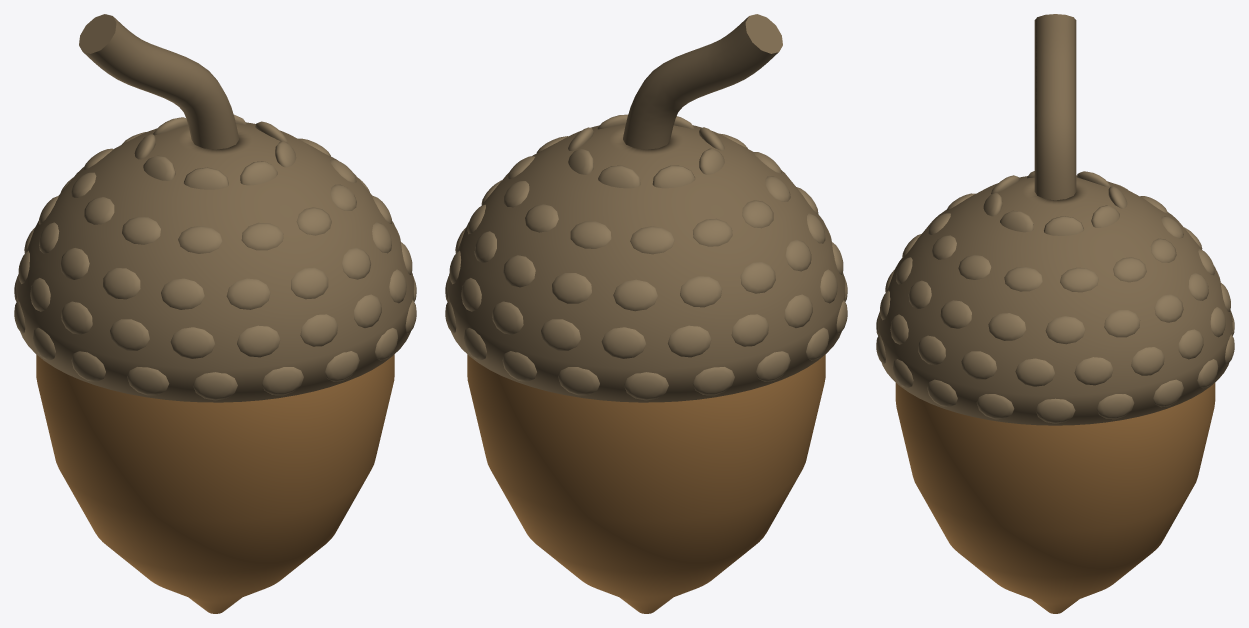
Rendered from A-NEW-20261027-ACORN-001_LOD0_R1.glb.
3 renders of one model, left to right at view 1: azimuth 30°, elevation 25°; view 2: azimuth 150°, elevation 25°; view 3: azimuth 270°, elevation 25°, orthographic. The views are drawn at different scales.
Visible parts, largest first — view 1: attached thick woody cup, smooth whole nut, short attached woody stalk, embedded woody cup scale 029, embedded woody cup scale 046, embedded woody cup scale 030, embedded woody cup scale 045, embedded woody cup scale 028, embedded woody cup scale 012, embedded woody cup scale 059, embedded woody cup scale 031, embedded woody cup scale 044 (+17 smaller); view 2: attached thick woody cup, smooth whole nut, short attached woody stalk, embedded woody cup scale 023, embedded woody cup scale 040, embedded woody cup scale 024, embedded woody cup scale 041, embedded woody cup scale 022, embedded woody cup scale 039, embedded woody cup scale 006, embedded woody cup scale 055, embedded woody cup scale 025 (+17 smaller); view 3: attached thick woody cup, smooth whole nut, short attached woody stalk, embedded woody cup scale 035, embedded woody cup scale 051, embedded woody cup scale 018, embedded woody cup scale 050, embedded woody cup scale 034, embedded woody cup scale 036, embedded woody cup scale 000, embedded woody cup scale 064, embedded woody cup scale 063 (+16 smaller).
Boxes of the visible parts, box(x1,y1,x2,y2) form: attached thick woody cup: box(16, 122, 414, 402); smooth whole nut: box(36, 354, 394, 613); short attached woody stalk: box(79, 14, 238, 149); embedded woody cup scale 029: box(170, 327, 215, 358); embedded woody cup scale 046: box(226, 278, 270, 309); embedded woody cup scale 030: box(237, 325, 280, 357); embedded woody cup scale 045: box(161, 278, 204, 309); embedded woody cup scale 028: box(110, 319, 149, 350); embedded woody cup scale 012: box(193, 372, 237, 400); embedded woody cup scale 059: box(178, 226, 222, 253); embedded woody cup scale 031: box(300, 314, 337, 346); embedded woody cup scale 044: box(103, 268, 140, 299); attached thick woody cup: box(447, 124, 845, 402); smooth whole nut: box(467, 354, 825, 613); short attached woody stalk: box(623, 14, 782, 149); embedded woody cup scale 023: box(601, 327, 646, 358); embedded woody cup scale 040: box(613, 279, 657, 311); embedded woody cup scale 024: box(668, 325, 711, 357); embedded woody cup scale 041: box(680, 276, 722, 307); embedded woody cup scale 022: box(541, 319, 580, 350); embedded woody cup scale 039: box(552, 273, 591, 303); embedded woody cup scale 006: box(624, 372, 668, 400); embedded woody cup scale 055: box(630, 226, 674, 254); embedded woody cup scale 025: box(731, 314, 768, 346); attached thick woody cup: box(878, 175, 1232, 425); smooth whole nut: box(895, 383, 1215, 613); short attached woody stalk: box(1034, 14, 1076, 200); embedded woody cup scale 035: box(1015, 358, 1054, 386); embedded woody cup scale 051: box(1045, 316, 1085, 344); embedded woody cup scale 018: box(1074, 357, 1113, 385); embedded woody cup scale 050: box(988, 313, 1026, 340); embedded woody cup scale 034: box(961, 351, 996, 379); embedded woody cup scale 036: box(1104, 310, 1140, 337); embedded woody cup scale 000: box(1035, 398, 1075, 423); embedded woody cup scale 064: box(1060, 267, 1098, 292); embedded woody cup scale 063: box(1004, 266, 1042, 291).
Size of the model in its own units: 0.0329 by 0.0553 by 0.0326.
